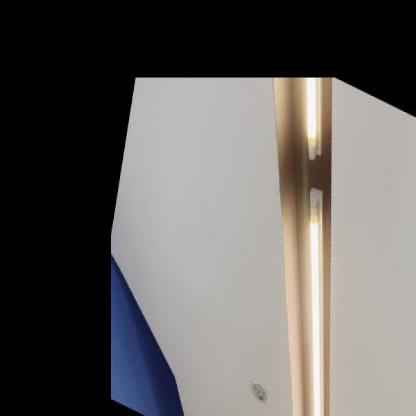light_on: (264, 180, 378, 414), (289, 62, 341, 172)
